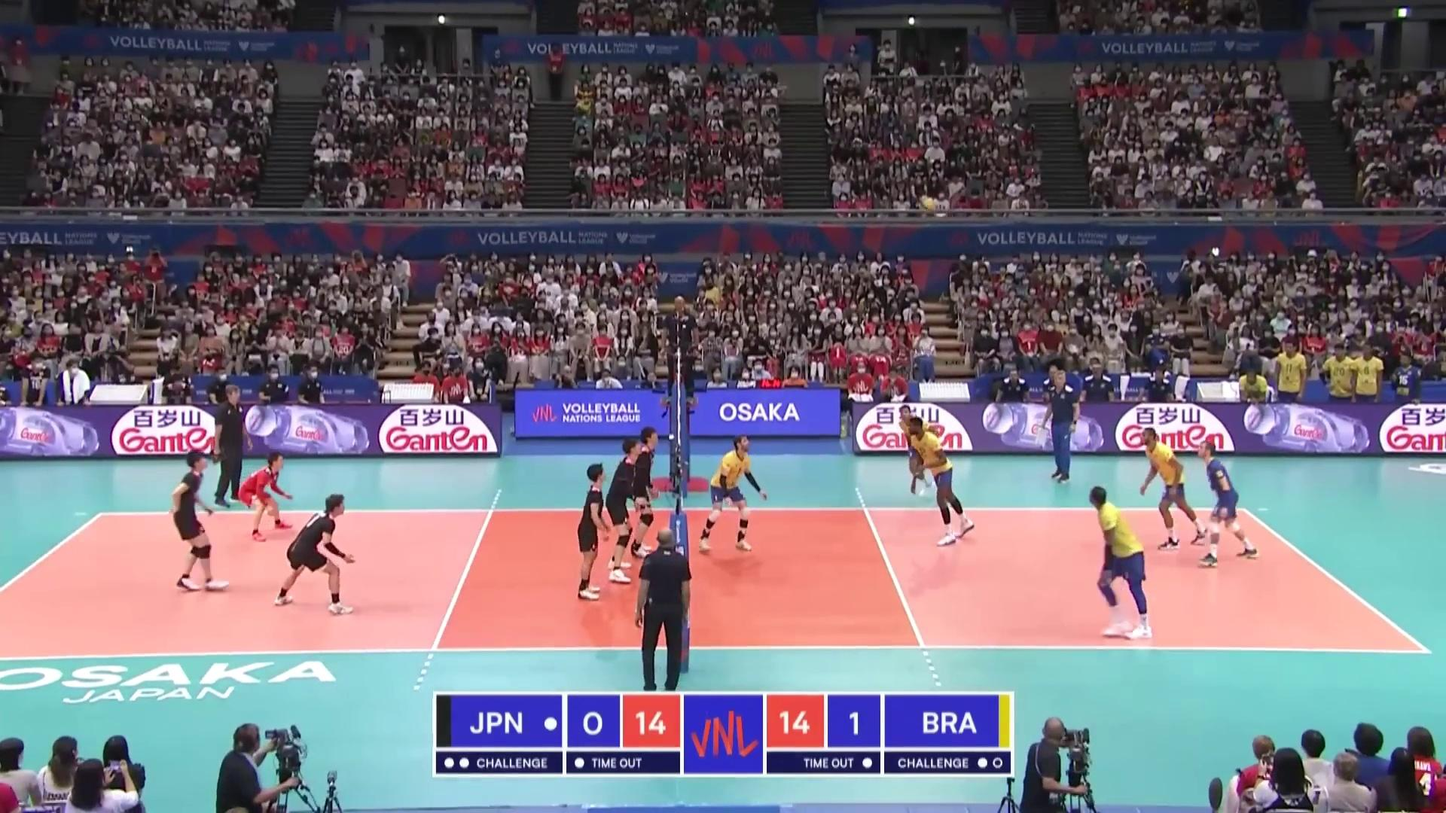player: (275, 493, 357, 615), (1085, 486, 1149, 638), (907, 416, 977, 547), (164, 450, 225, 591), (1139, 428, 1207, 548), (1197, 441, 1261, 568), (699, 436, 756, 555), (604, 439, 640, 583), (568, 465, 605, 602), (898, 405, 946, 502), (237, 452, 290, 539), (629, 428, 656, 557)
refree: (635, 529, 692, 691), (660, 294, 697, 409)
